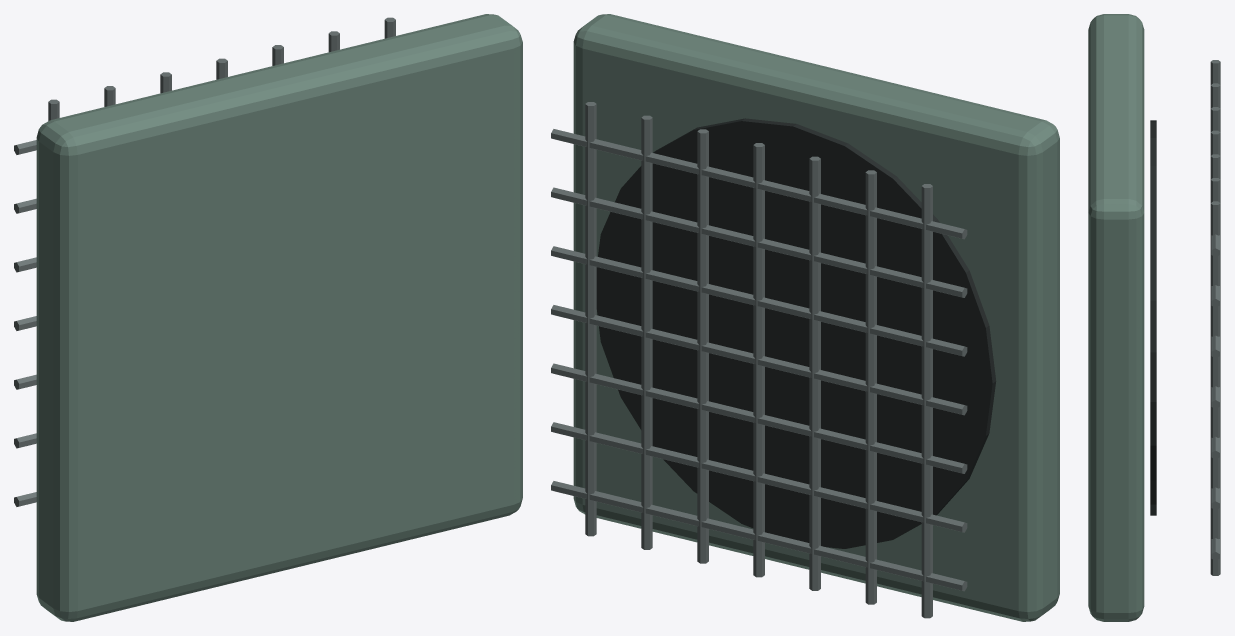
Rendered from fan_housing.glb.
The picture shows the model from 3 angles, left to right: view 1: azimuth 30°, elevation 25°; view 2: azimuth 150°, elevation 25°; view 3: azimuth 270°, elevation 25°; orthographic projection. The views are drawn at different scales.
Visible parts, largest first — view 1: fan_housing; view 2: fan_housing; view 3: fan_housing.
Part boxes in pixels (left/top/right/bottom): fan_housing: left=14, top=14, right=522, bottom=621; fan_housing: left=551, top=14, right=1059, bottom=621; fan_housing: left=1088, top=14, right=1220, bottom=621.
Size of the model in its own units: 0.75 by 0.75 by 0.213.
